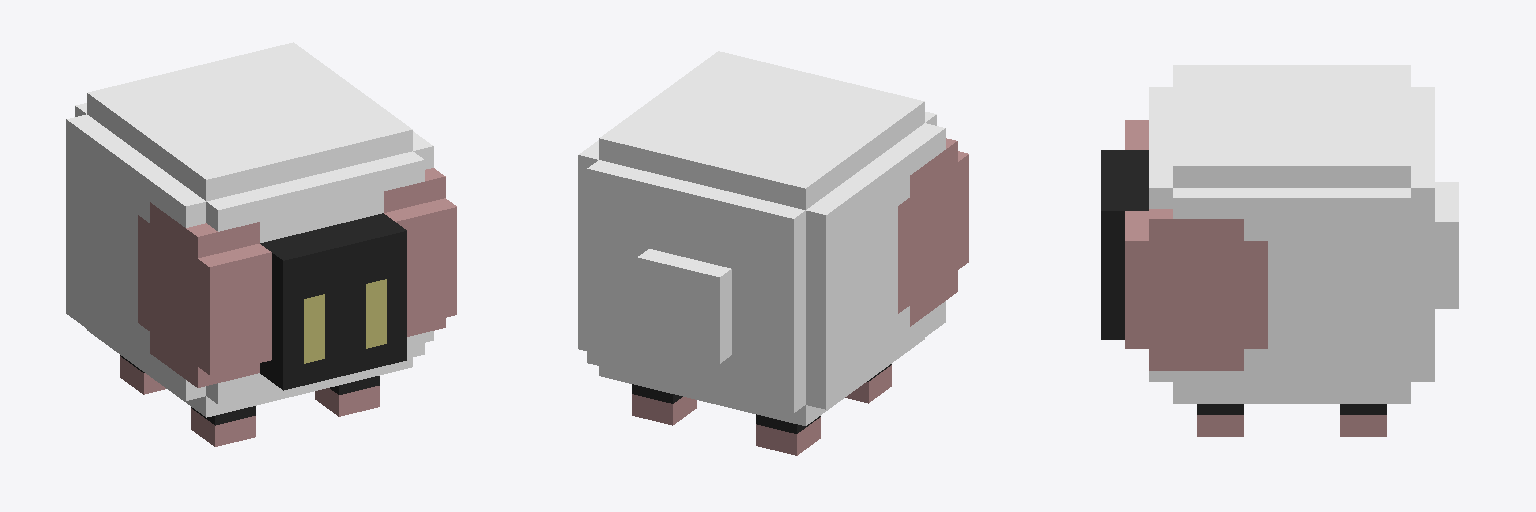
3 views of the same model, side by side, from view 1: azimuth 30°, elevation 25°; view 2: azimuth 150°, elevation 25°; view 3: azimuth 270°, elevation 25° (orthographic).
Parts seen in each view (by area): view 1: object 1; view 2: object 1; view 3: object 1.
Part boxes in pixels (left/top/right/bottom): object 1: left=66, top=42, right=456, bottom=446; object 1: left=578, top=51, right=968, bottom=455; object 1: left=1101, top=65, right=1458, bottom=436.
Bounding box in the file's own units: 1.2 × 1.3 × 1.5.
1 materials, 1 textured.